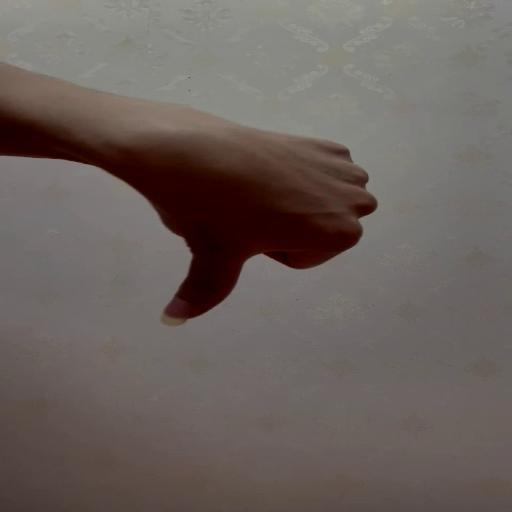thumbs_down: (84, 131, 379, 328)
